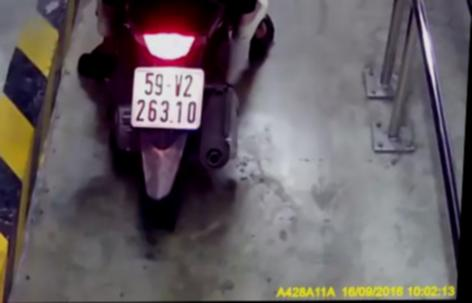License_Plate: (123, 62, 209, 136)
